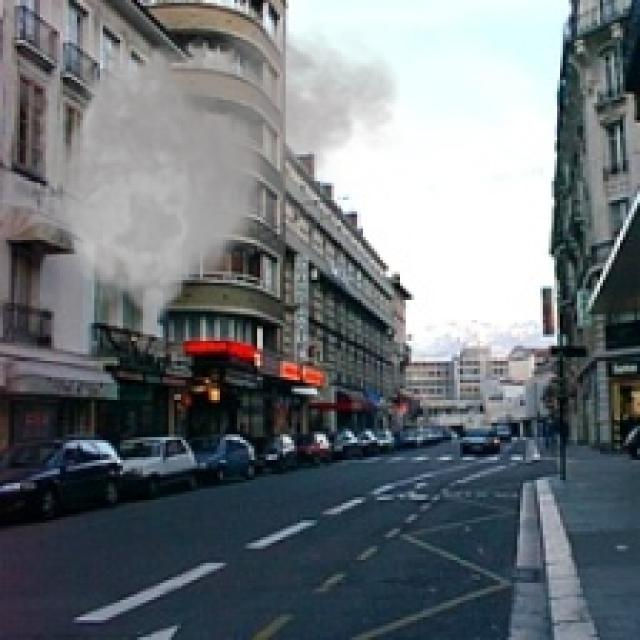smoke: (8, 8, 406, 363)
